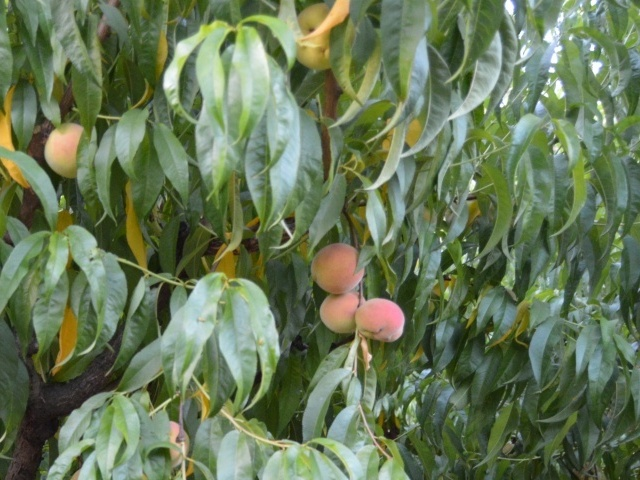peach: (292, 1, 348, 72), (305, 240, 368, 297), (37, 121, 90, 180), (351, 296, 410, 345), (315, 289, 370, 339), (161, 419, 193, 470)
